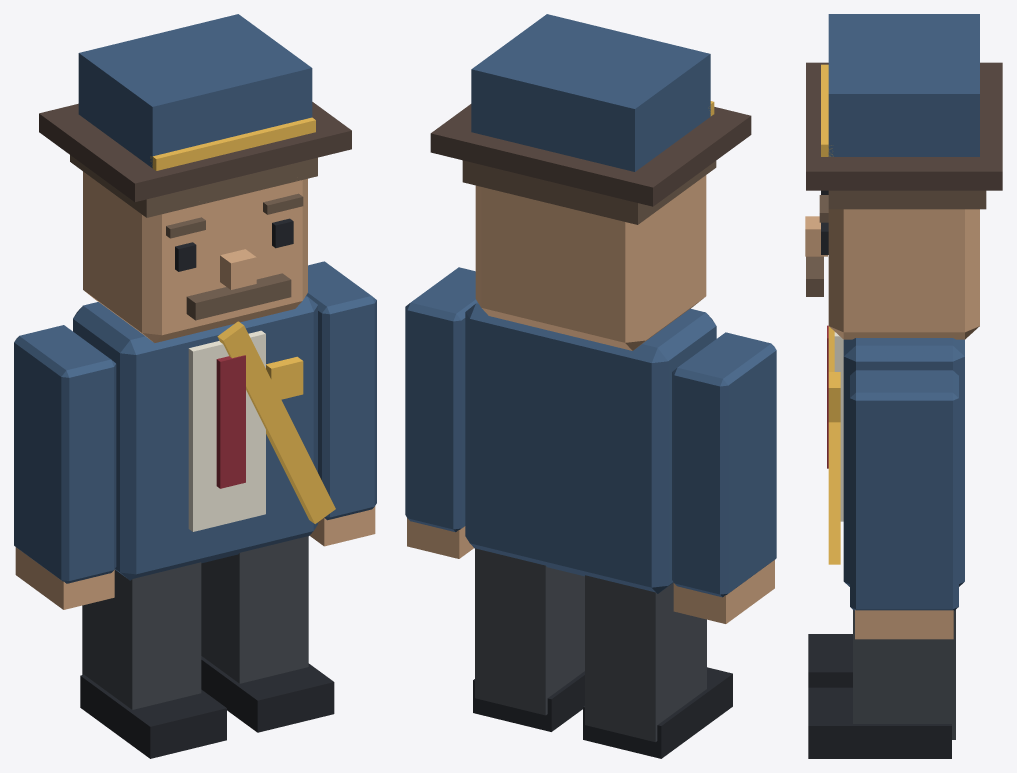
Rendered from Mayor_NPC.fbx.
3 renders of one model, left to right at view 1: azimuth 30°, elevation 25°; view 2: azimuth 150°, elevation 25°; view 3: azimuth 270°, elevation 25°, orthographic. The views are drawn at different scales.
Parts seen in each view (by area): view 1: Mayor_Torso, Mayor_Hat, Mayor_Arm, Mayor_Head, Mayor_Leg, Mayor_Arm.001, Mayor_Leg.001, Mayor_Hat_Brim, Mayor_Shirt, Mayor_Shoe, Mayor_Shoe.001, Mayor_Sash (+8 smaller); view 2: Mayor_Torso, Mayor_Head, Mayor_Hat, Mayor_Arm, Mayor_Leg, Mayor_Leg.001, Mayor_Arm.001, Mayor_Hat_Brim, Mayor_Hair, Mayor_Shoe, Mayor_Hand, Mayor_Shoe.001 (+1 smaller); view 3: Mayor_Arm.001, Mayor_Hat, Mayor_Head, Mayor_Hat_Brim, Mayor_Leg.001, Mayor_Torso, Mayor_Shoe.001, Mayor_Hair, Mayor_Hand.001, Mayor_Shoe, Mayor_Sash, Mayor_Shirt (+4 smaller).
Boxes of the visible parts, left/top/right/bottom form: Mayor_Torso: left=73, top=295, right=317, bottom=580; Mayor_Hat: left=78, top=14, right=312, bottom=168; Mayor_Arm: left=14, top=325, right=116, bottom=583; Mayor_Head: left=83, top=171, right=307, bottom=342; Mayor_Leg: left=82, top=562, right=201, bottom=709; Mayor_Arm.001: left=306, top=261, right=376, bottom=520; Mayor_Leg.001: left=201, top=536, right=308, bottom=683; Mayor_Hat_Brim: left=39, top=102, right=351, bottom=201; Mayor_Shirt: left=188, top=330, right=265, bottom=531; Mayor_Shoe: left=80, top=674, right=226, bottom=758; Mayor_Shoe.001: left=201, top=656, right=334, bottom=732; Mayor_Sash: left=217, top=321, right=335, bottom=523; Mayor_Torso: left=465, top=302, right=716, bottom=593; Mayor_Head: left=475, top=175, right=706, bottom=350; Mayor_Hat: left=471, top=14, right=710, bottom=171; Mayor_Arm: left=672, top=332, right=776, bottom=597; Mayor_Leg: left=585, top=575, right=706, bottom=742; Mayor_Leg.001: left=475, top=548, right=584, bottom=715; Mayor_Arm.001: left=405, top=267, right=477, bottom=532; Mayor_Hat_Brim: left=430, top=104, right=751, bottom=206; Mayor_Hair: left=462, top=160, right=716, bottom=224; Mayor_Shoe: left=583, top=667, right=732, bottom=758; Mayor_Hand: left=673, top=560, right=774, bottom=623; Mayor_Shoe.001: left=473, top=671, right=584, bottom=731; Mayor_Arm.001: left=850, top=370, right=958, bottom=610; Mayor_Hat: left=828, top=14, right=979, bottom=156; Mayor_Head: left=828, top=209, right=979, bottom=339; Mayor_Hat_Brim: left=806, top=62, right=1002, bottom=190; Mayor_Leg.001: left=853, top=610, right=955, bottom=739; Mayor_Torso: left=843, top=338, right=964, bottom=586; Mayor_Shoe.001: left=808, top=687, right=951, bottom=758; Mayor_Hair: left=828, top=190, right=986, bottom=209; Mayor_Hand.001: left=855, top=610, right=953, bottom=639; Mayor_Shoe: left=808, top=634, right=852, bottom=687; Mayor_Sash: left=828, top=326, right=840, bottom=564; Mayor_Shirt: left=834, top=332, right=843, bottom=521.
Bounding box in the file's own units: 247 × 480 × 131.
